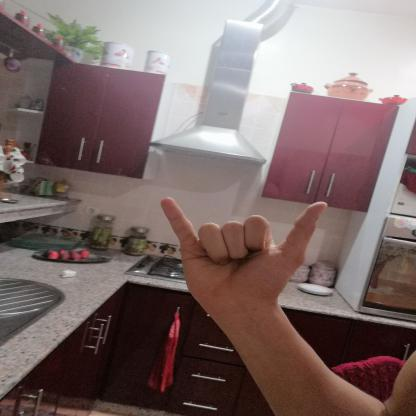YA: (143, 187, 342, 328)
